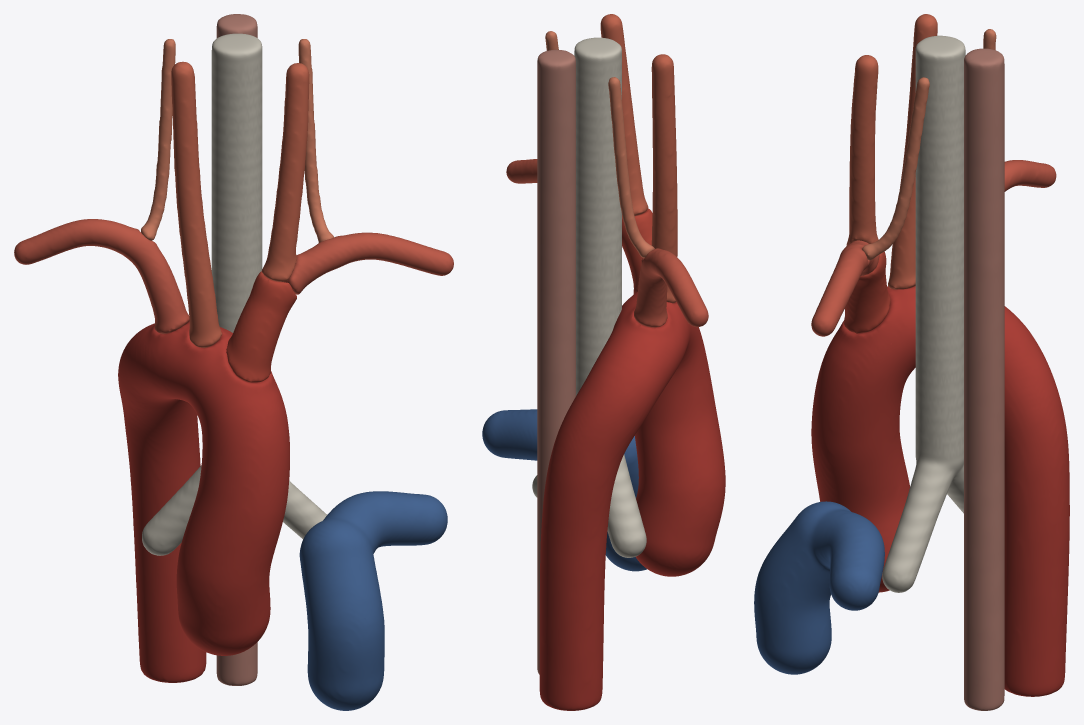
Rendered from aorta_right_mirror.glb.
The picture shows the model from 3 angles, left to right: view 1: azimuth 30°, elevation 25°; view 2: azimuth 150°, elevation 25°; view 3: azimuth 270°, elevation 25°; orthographic projection. The views are drawn at different scales.
Parts seen in each view (by area): view 1: aorta, pulmonary_trunk, trachea, right_common_carotid, right_subclavian, left_common_carotid, left_subclavian, brachiocephalic_trunk, right_vertebral, oesophagus, left_vertebral; view 2: aorta, trachea, oesophagus, right_common_carotid, right_subclavian, pulmonary_trunk, left_common_carotid, right_vertebral, brachiocephalic_trunk, left_subclavian; view 3: aorta, oesophagus, trachea, pulmonary_trunk, left_common_carotid, right_common_carotid, left_subclavian, left_vertebral, brachiocephalic_trunk, right_subclavian.
Boxes of the visible parts, <box> form: aorta: <box>118,320,289,682</box>; pulmonary_trunk: <box>299,491,447,710</box>; trachea: <box>142,33,326,555</box>; right_common_carotid: <box>171,61,222,347</box>; right_subclavian: <box>14,219,189,334</box>; left_common_carotid: <box>262,63,309,281</box>; left_subclavian: <box>282,232,453,294</box>; brachiocephalic_trunk: <box>226,271,296,382</box>; right_vertebral: <box>141,39,175,240</box>; oesophagus: <box>216,14,257,685</box>; left_vertebral: <box>298,39,334,242</box>; aorta: <box>539,292,725,710</box>; trachea: <box>532,37,646,557</box>; oesophagus: <box>537,49,575,674</box>; right_common_carotid: <box>651,54,677,303</box>; right_subclavian: <box>634,248,708,327</box>; pulmonary_trunk: <box>482,409,646,571</box>; left_common_carotid: <box>600,14,648,215</box>; right_vertebral: <box>608,77,654,257</box>; brachiocephalic_trunk: <box>622,208,652,293</box>; left_subclavian: <box>506,159,622,215</box>; aorta: <box>811,285,1069,696</box>; oesophagus: <box>964,48,1004,710</box>; trachea: <box>882,35,965,592</box>; pulmonary_trunk: <box>754,501,884,674</box>; left_common_carotid: <box>846,55,878,245</box>; right_common_carotid: <box>888,14,937,289</box>; left_subclavian: <box>811,240,879,336</box>; left_vertebral: <box>862,77,929,260</box>; brachiocephalic_trunk: <box>844,246,890,333</box>; right_subclavian: <box>1004,160,1056,191</box>.
Size of the model in its own units: 12 by 22.78 by 10.02.
